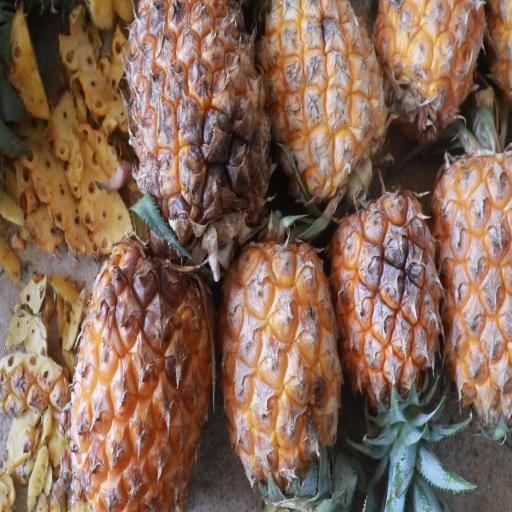Pineapple - v8 v1: (63, 217, 214, 512), (126, 0, 274, 250), (216, 229, 348, 484), (326, 174, 447, 402), (256, 0, 393, 200), (429, 128, 512, 447), (374, 0, 493, 128)
